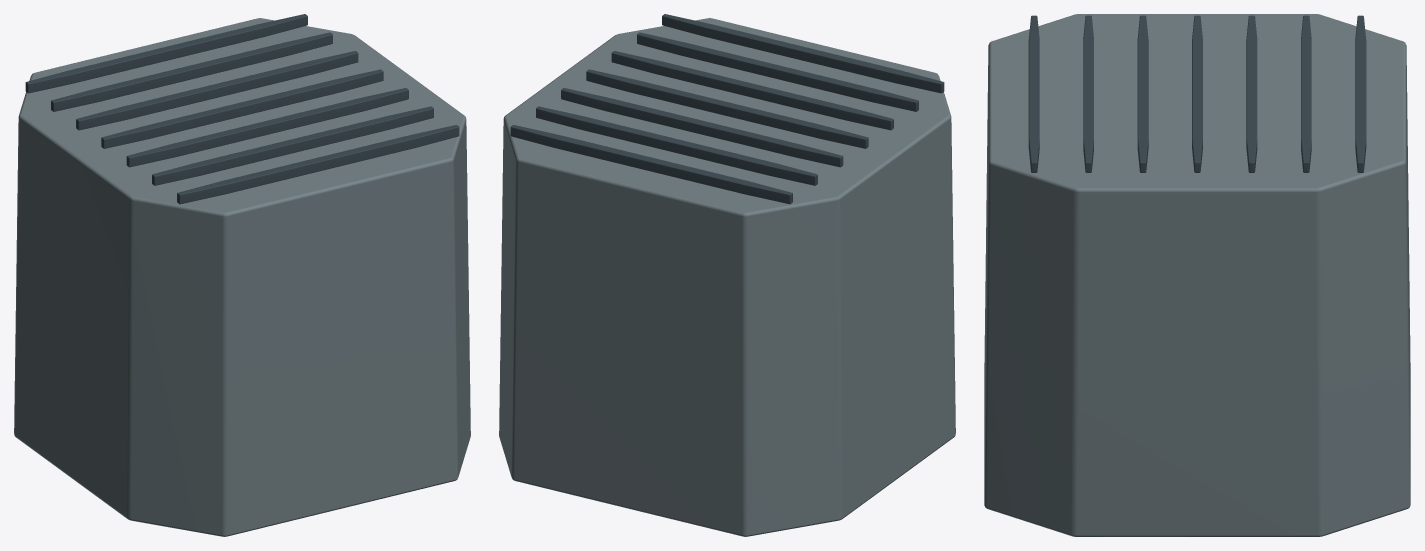
File: Ramp.fbx
3 views of the same model, side by side, from view 1: azimuth 30°, elevation 25°; view 2: azimuth 150°, elevation 25°; view 3: azimuth 270°, elevation 25° (orthographic). The views are drawn at different scales.
Visible parts, largest first — view 1: RampDeck, RampGrip, RampGrip.006, RampGrip.003, RampGrip.004, RampGrip.002, RampGrip.005, RampGrip.001; view 2: RampDeck, RampGrip.006, RampGrip, RampGrip.002, RampGrip.003, RampGrip.004, RampGrip.001, RampGrip.005; view 3: RampDeck, RampGrip.002, RampGrip.004, RampGrip, RampGrip.006, RampGrip.001, RampGrip.003, RampGrip.005.
Part boxes in pixels (x1=…): RampDeck: x1=14, y1=18, x2=470, y2=536; RampGrip: x1=177, y1=125, x2=459, y2=204; RampGrip.006: x1=25, y1=14, x2=307, y2=93; RampGrip.003: x1=101, y1=69, x2=383, y2=148; RampGrip.004: x1=76, y1=51, x2=358, y2=130; RampGrip.002: x1=126, y1=88, x2=408, y2=167; RampGrip.005: x1=51, y1=32, x2=332, y2=111; RampGrip.001: x1=152, y1=106, x2=433, y2=185; RampDeck: x1=499, y1=18, x2=955, y2=536; RampGrip.006: x1=510, y1=125, x2=792, y2=204; RampGrip: x1=662, y1=14, x2=944, y2=93; RampGrip.002: x1=611, y1=51, x2=893, y2=130; RampGrip.003: x1=586, y1=69, x2=868, y2=148; RampGrip.004: x1=561, y1=88, x2=843, y2=167; RampGrip.001: x1=637, y1=32, x2=918, y2=111; RampGrip.005: x1=536, y1=106, x2=817, y2=185; RampDeck: x1=984, y1=14, x2=1410, y2=536; RampGrip.002: x1=1137, y1=15, x2=1148, y2=172; RampGrip.004: x1=1246, y1=15, x2=1257, y2=172; RampGrip: x1=1028, y1=15, x2=1039, y2=172; RampGrip.006: x1=1355, y1=15, x2=1366, y2=172; RampGrip.001: x1=1083, y1=15, x2=1093, y2=172; RampGrip.003: x1=1192, y1=15, x2=1202, y2=172; RampGrip.005: x1=1301, y1=15, x2=1311, y2=172.
Size of the model in its own units: 0.9798 by 0.9105 by 0.9798.
